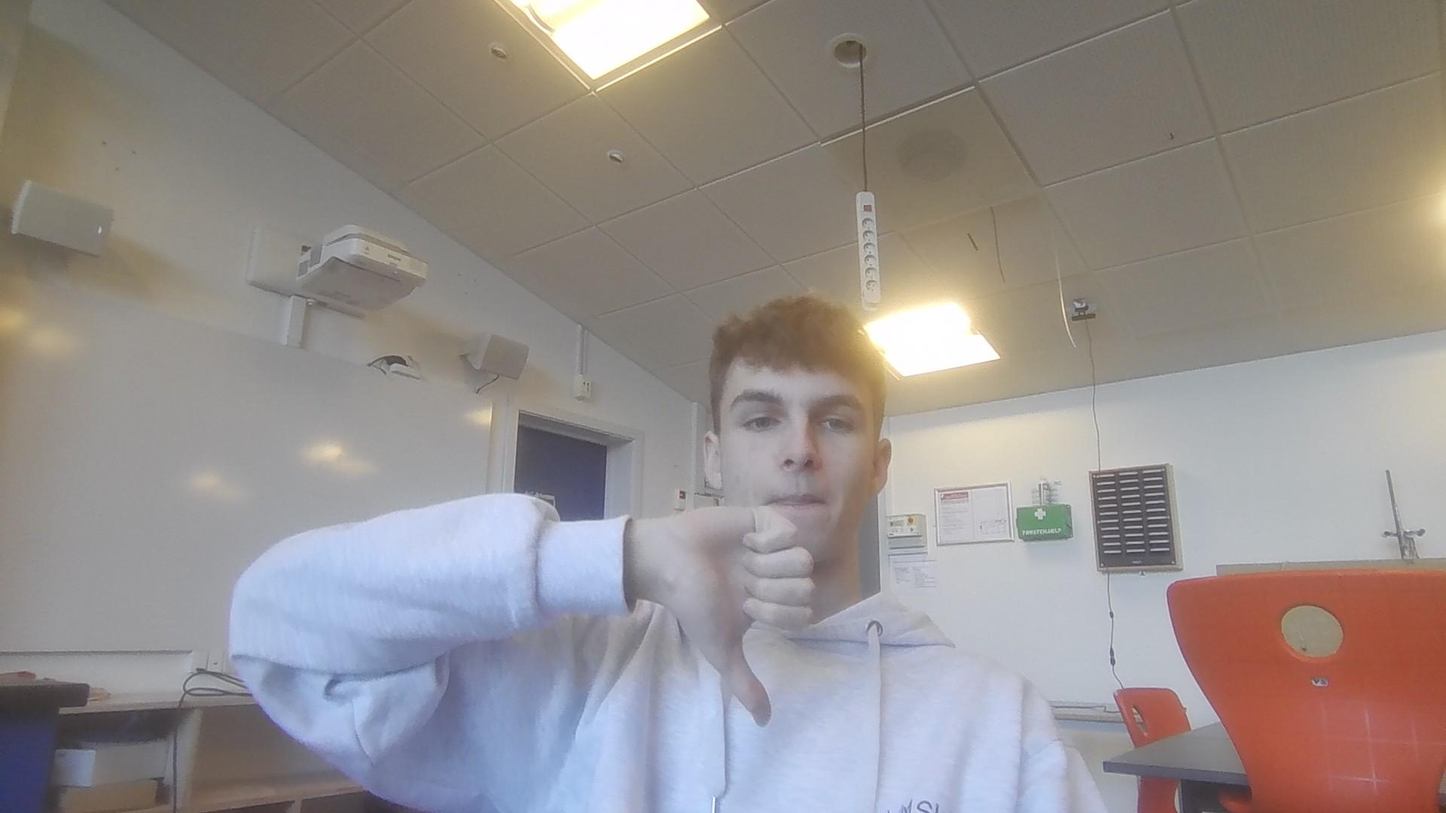thumbs down: (633, 501, 819, 726)
